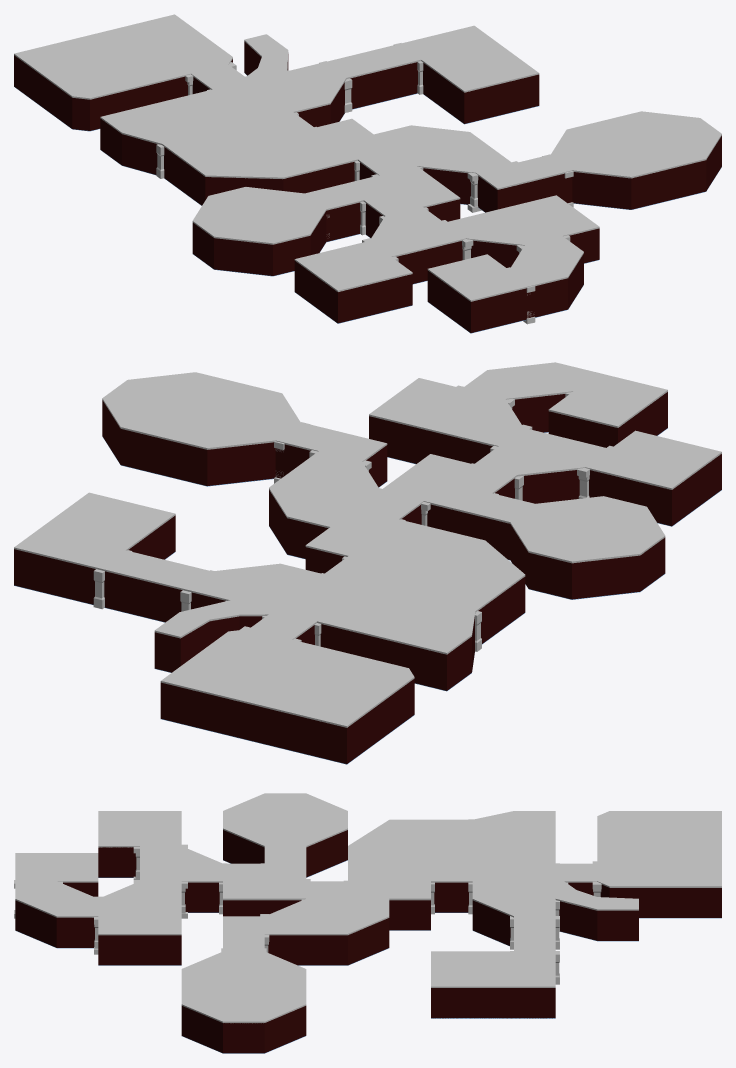
The model's file is DoomLevel.obj.
3 views of the same model, one above another, from view 1: azimuth 30°, elevation 25°; view 2: azimuth 150°, elevation 25°; view 3: azimuth 270°, elevation 25° (orthographic). The views are drawn at different scales.
Parts seen in each view (by area): view 1: ceiling_Plane.001, walls_Plane, floor_Plane.002; view 2: ceiling_Plane.001, walls_Plane, floor_Plane.002; view 3: ceiling_Plane.001, walls_Plane, floor_Plane.002.
Boxes of the visible parts, bbox=[...] form: ceiling_Plane.001: bbox=[14, 14, 721, 301]; walls_Plane: bbox=[14, 41, 721, 332]; floor_Plane.002: bbox=[14, 73, 721, 333]; ceiling_Plane.001: bbox=[14, 362, 721, 727]; walls_Plane: bbox=[14, 392, 721, 763]; floor_Plane.002: bbox=[14, 428, 721, 764]; ceiling_Plane.001: bbox=[15, 793, 721, 1023]; walls_Plane: bbox=[15, 830, 721, 1053]; floor_Plane.002: bbox=[15, 860, 721, 1053].
Bounding box in the file's own units: 130 × 9.47 × 170.
